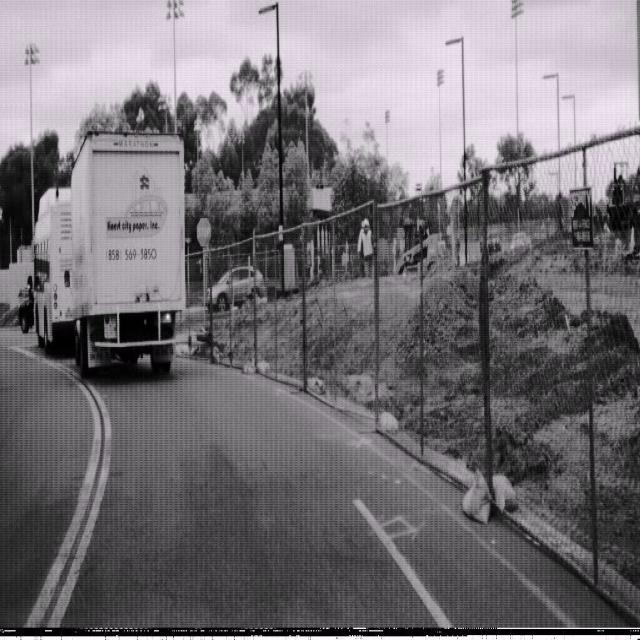stop_sign: (196, 217, 212, 246)
